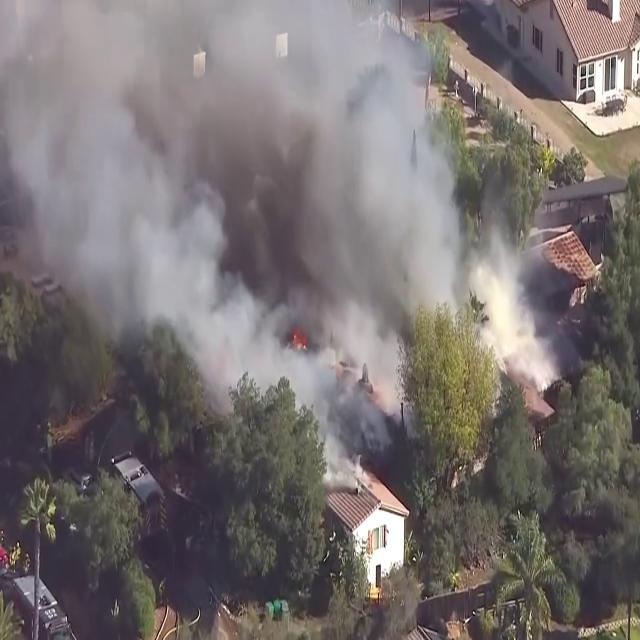Smoke: (0, 3, 464, 402), (471, 200, 556, 400)
